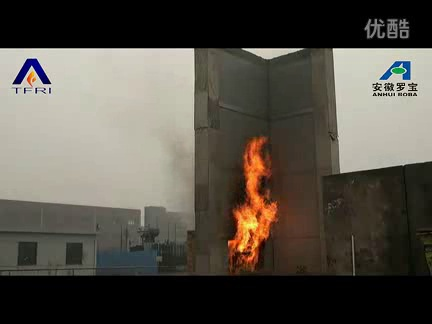fire: (226, 131, 281, 277)
